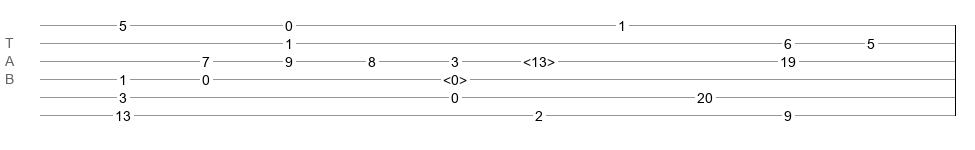0: (202, 72, 210, 82), (285, 18, 293, 28), (451, 90, 459, 100)
1: (119, 72, 127, 82), (285, 36, 293, 46), (618, 18, 626, 28)
13: (115, 108, 131, 118)
19: (780, 54, 796, 64)
2: (535, 108, 543, 118)
20: (697, 90, 713, 100)
3: (119, 90, 127, 100), (451, 54, 459, 64)
5: (119, 18, 127, 28), (867, 36, 875, 46)
6: (784, 36, 792, 46)
7: (202, 54, 210, 64)
8: (368, 54, 376, 64)
9: (285, 54, 293, 64), (784, 108, 792, 118)
harmonic: (523, 54, 555, 64), (443, 72, 467, 82)
